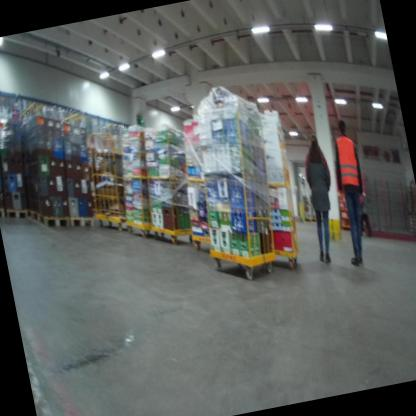pallet: (25, 200, 72, 235), (67, 206, 97, 232), (5, 205, 28, 223), (0, 203, 7, 222)
